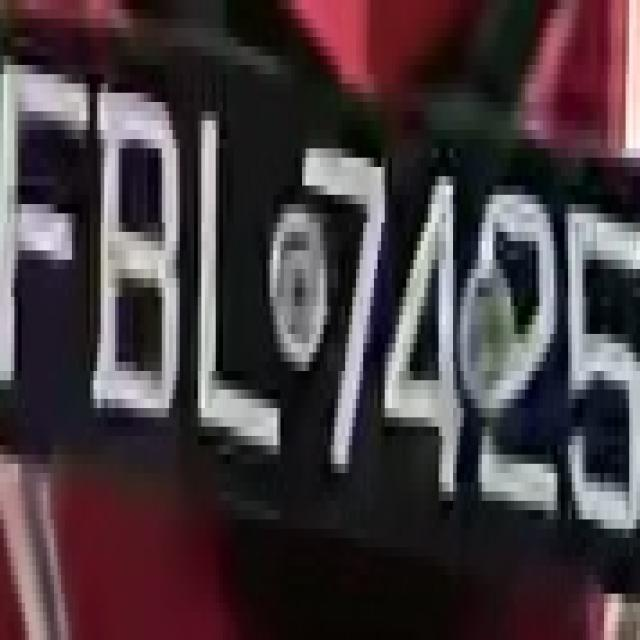2: (457, 167, 557, 556)
4: (377, 139, 482, 501)
5: (3, 3, 4, 8)
7: (291, 84, 396, 482)
B: (94, 46, 184, 464)
F: (7, 37, 90, 390)
L: (187, 56, 288, 473)
